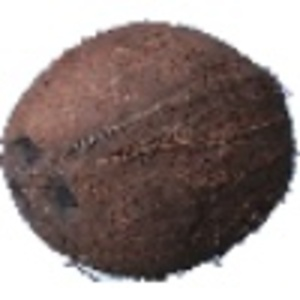coco: (1, 21, 300, 283)
